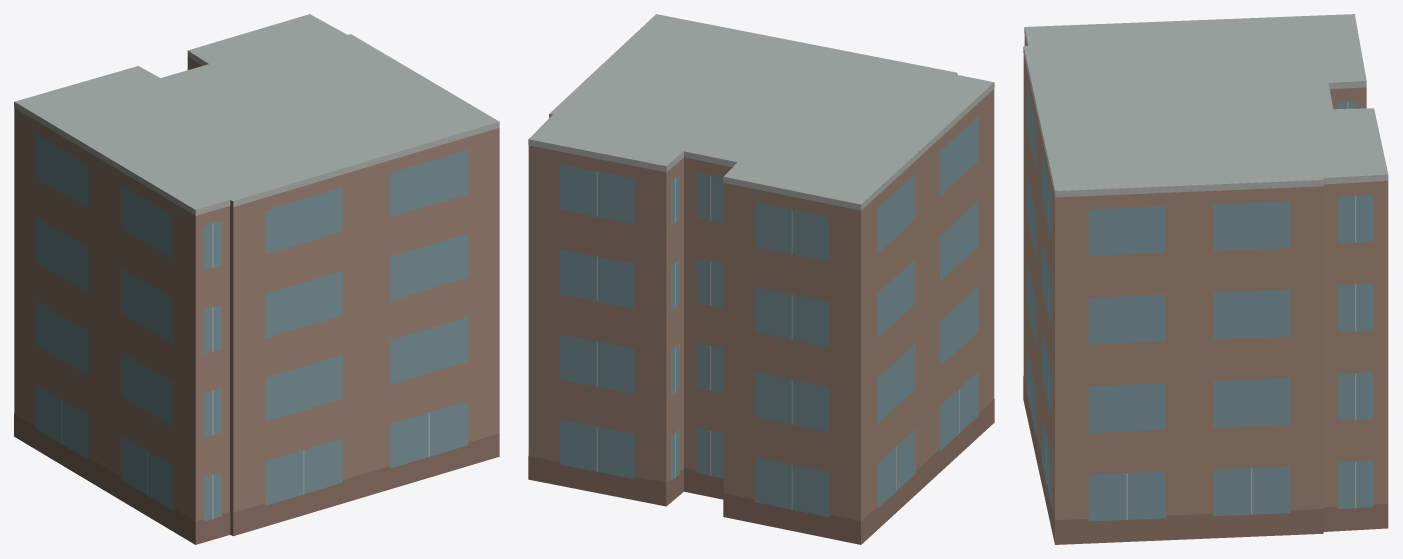
Rendered from survey-upis-32632843.glb.
The picture shows the model from 3 angles, left to right: view 1: azimuth 30°, elevation 25°; view 2: azimuth 150°, elevation 25°; view 3: azimuth 270°, elevation 25°; orthographic projection. The views are drawn at different scales.
Visible parts, largest first — view 1: survey-upis-32632843.tmp; view 2: survey-upis-32632843.tmp; view 3: survey-upis-32632843.tmp.
Boxes of the visible parts, x1,y1,x2,y2 form: survey-upis-32632843.tmp: [14, 14, 499, 544]; survey-upis-32632843.tmp: [528, 14, 994, 544]; survey-upis-32632843.tmp: [1023, 14, 1388, 544].
Bounding box in the file's own units: 14.72 × 13.7 × 12.82.
